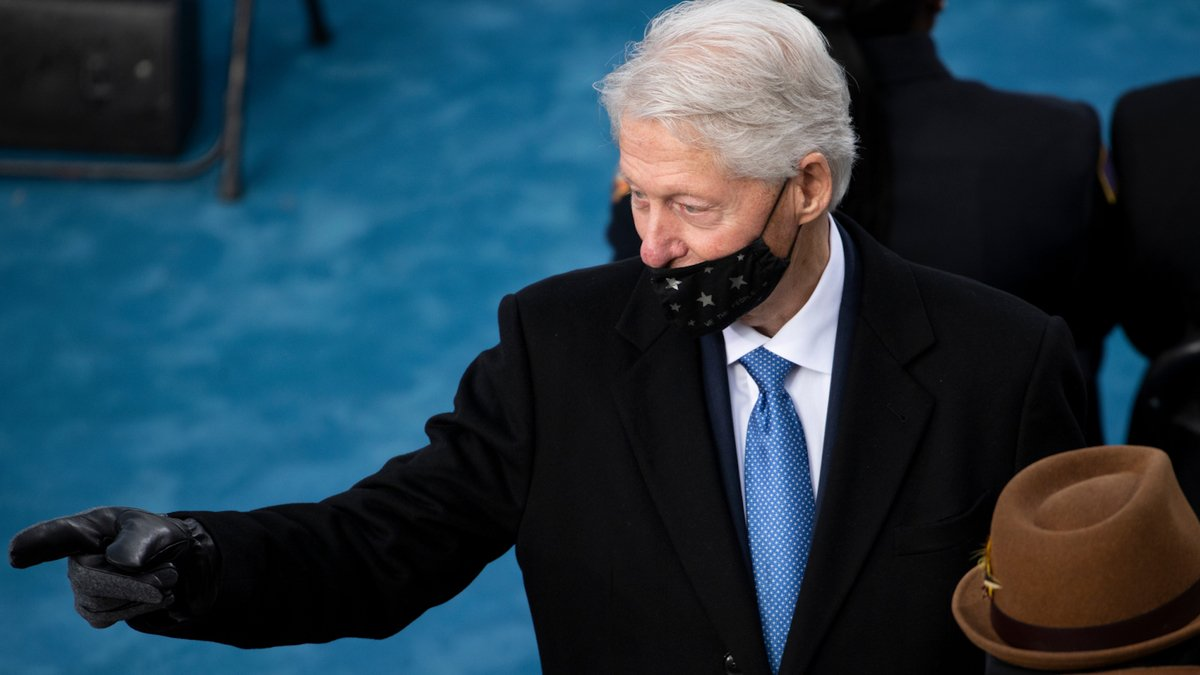with_incorrect_mask: (617, 110, 795, 335)
